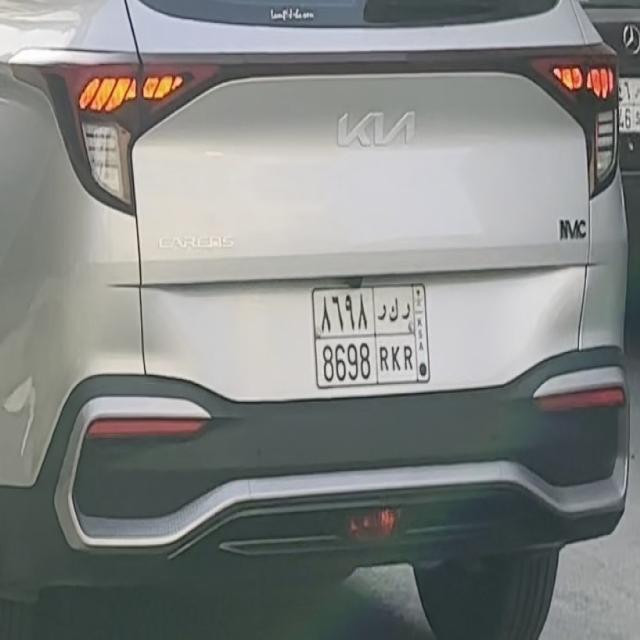Car-plate: (309, 267, 441, 407)
